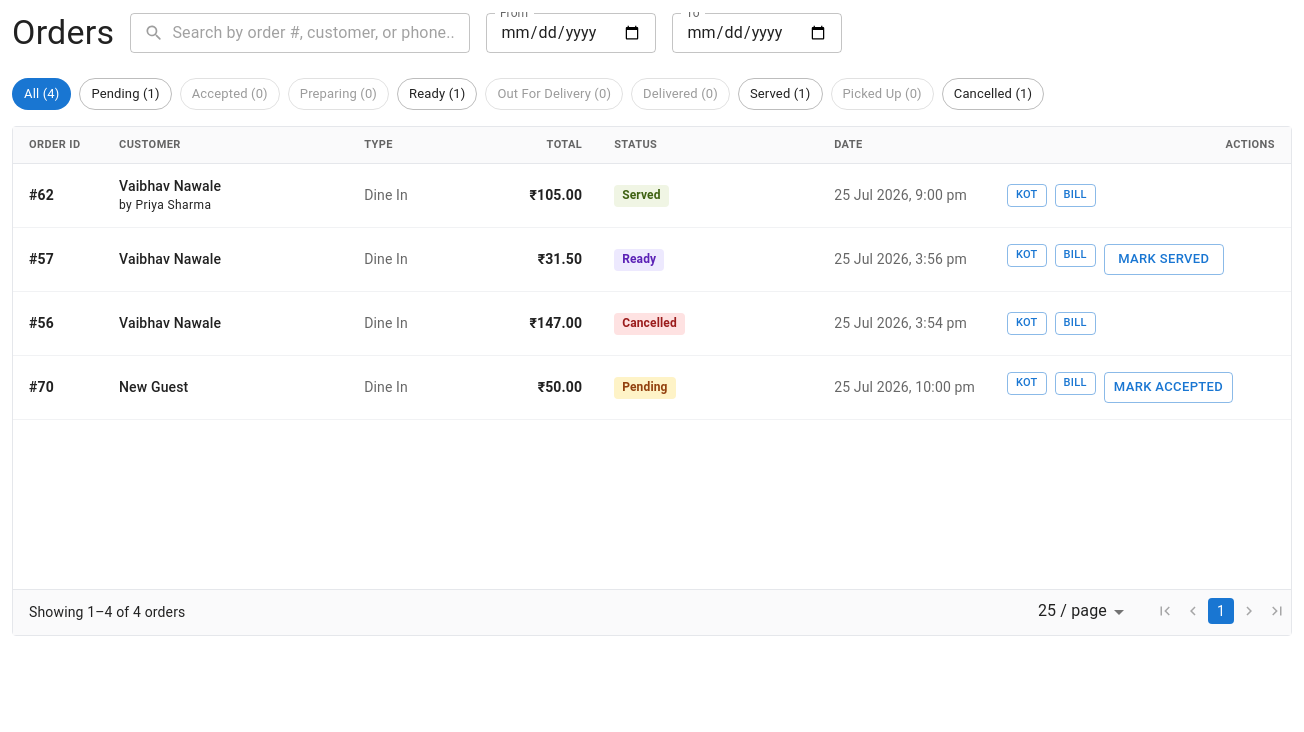
Scenario: Orders - search and status filter › filters by status chip and shows the right counts
Expected: the text "#62" is shown, [13,164,103,228]
Expected: the button "All (4)" is shown, [12,78,71,110]
What coordinates should you click on to do the following:
click the button "Ready (1)"
I would click on:
 (437, 94)
Its box is [397,78,477,110].
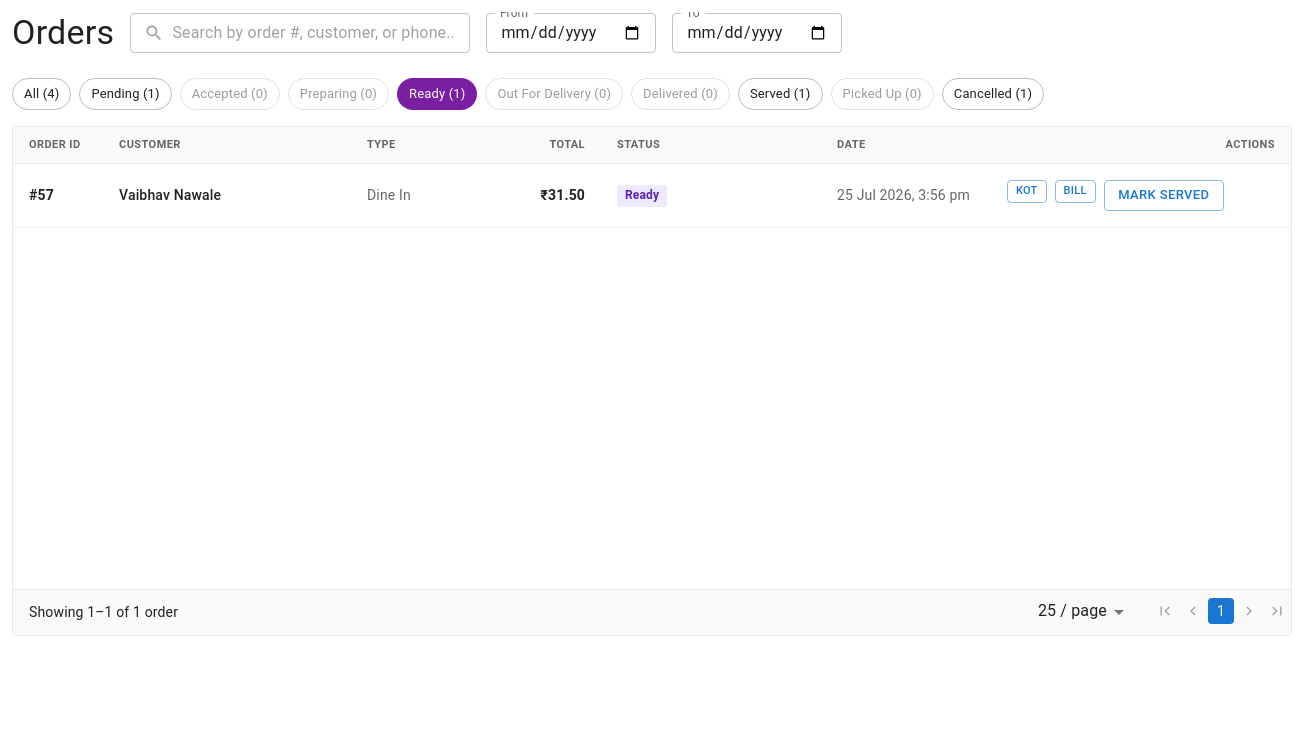
Expected: the text "#57" is shown, [13,164,103,228]
Now the text "#62" is gone
Now the text "#56" is gone
